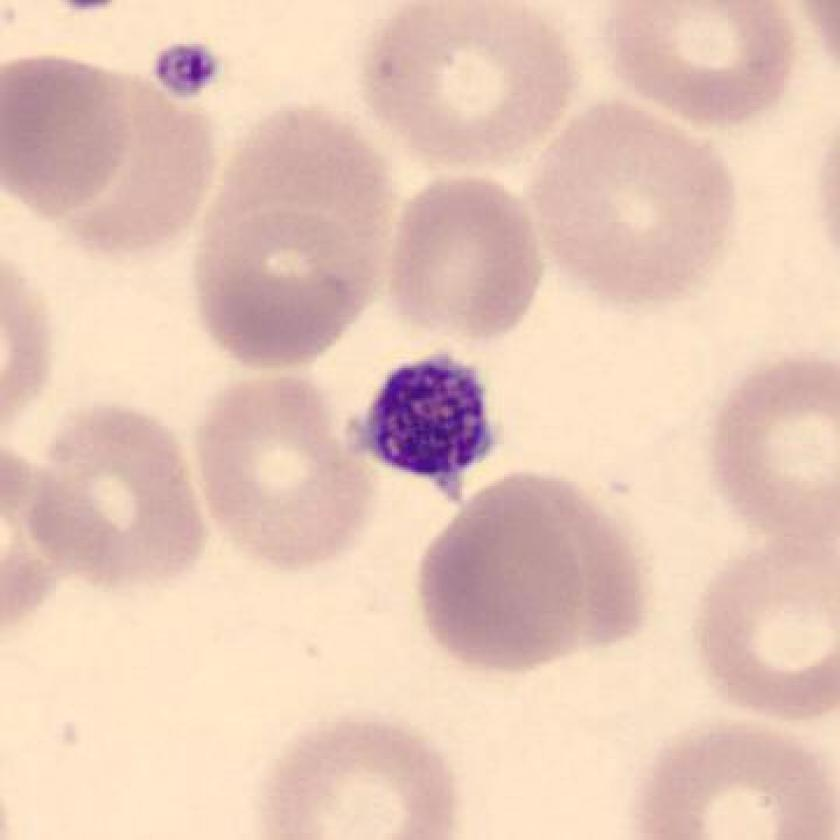platelets: (342, 337, 514, 508)
